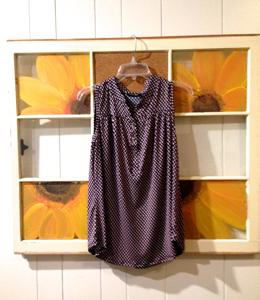C_tank top: (85, 73, 186, 272)
